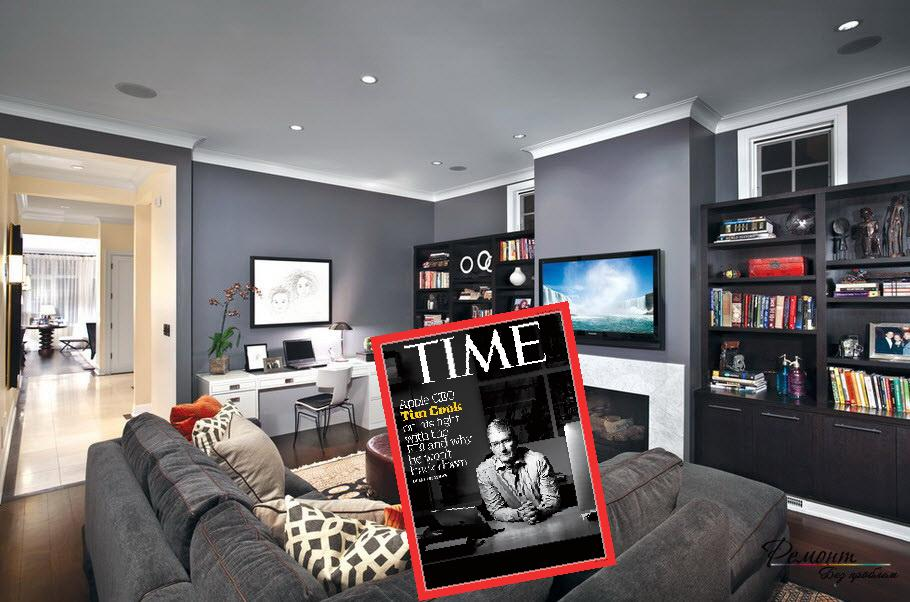times: (368, 298, 618, 598)
